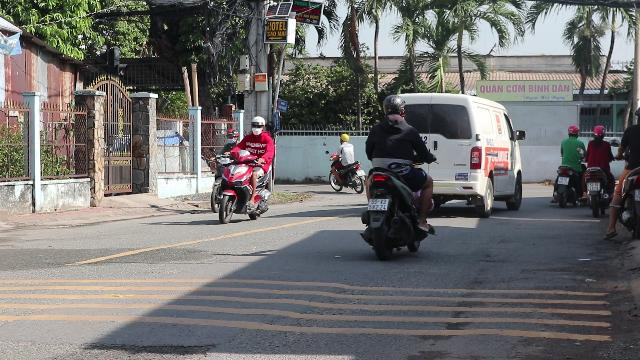helmet: (381, 94, 405, 118), (250, 115, 266, 136)
licenseplate: (368, 198, 388, 209)
motorcyclist: (358, 93, 437, 259), (208, 114, 276, 224)
